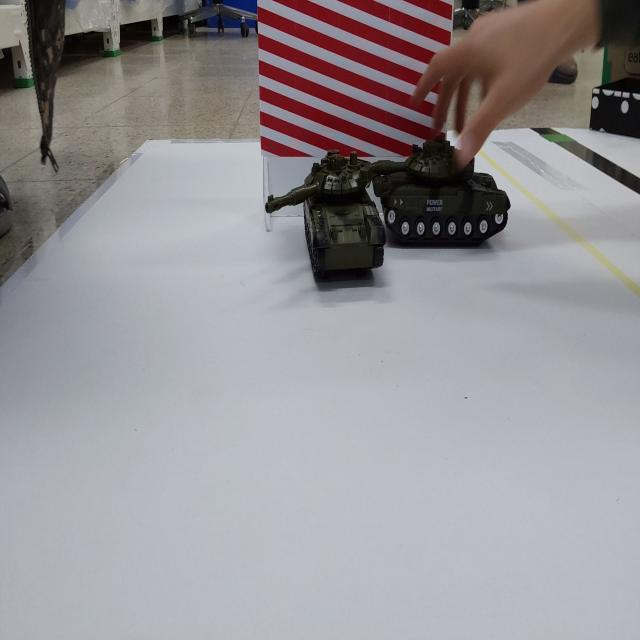enem_tank: (368, 133, 510, 245), (267, 150, 385, 281)
